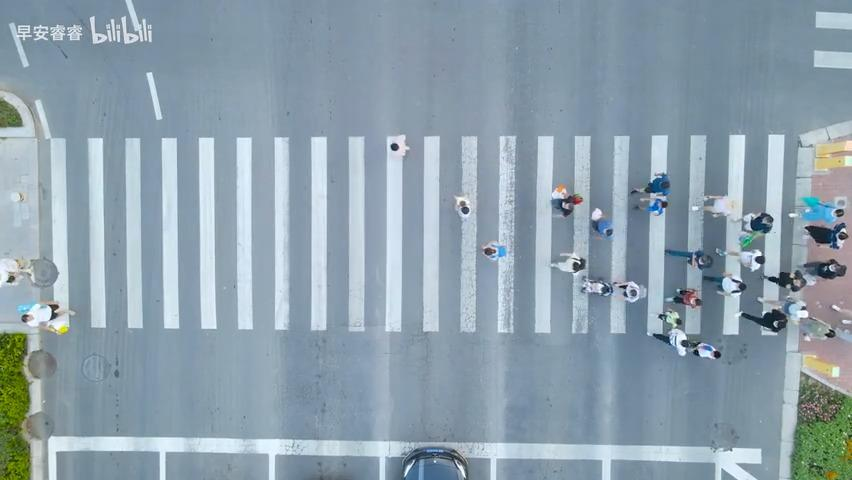Civilian: (667, 327, 721, 360), (788, 195, 844, 226), (733, 211, 773, 248), (18, 301, 75, 326), (714, 247, 765, 272), (734, 308, 787, 332), (803, 221, 848, 249), (756, 295, 808, 319), (380, 134, 417, 167), (447, 188, 479, 225), (759, 269, 808, 292), (796, 258, 847, 280), (702, 271, 746, 296), (551, 184, 583, 217), (664, 248, 712, 270), (797, 315, 836, 341), (630, 171, 670, 196), (0, 256, 32, 287), (664, 287, 702, 308), (548, 252, 585, 273), (702, 194, 734, 218), (613, 280, 646, 302), (590, 207, 613, 236), (581, 276, 613, 296), (633, 198, 668, 216), (657, 307, 682, 329), (692, 342, 721, 360), (481, 241, 506, 260)
